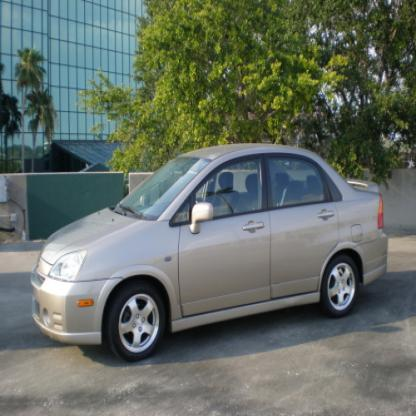Vehicle: (30, 143, 392, 364)
